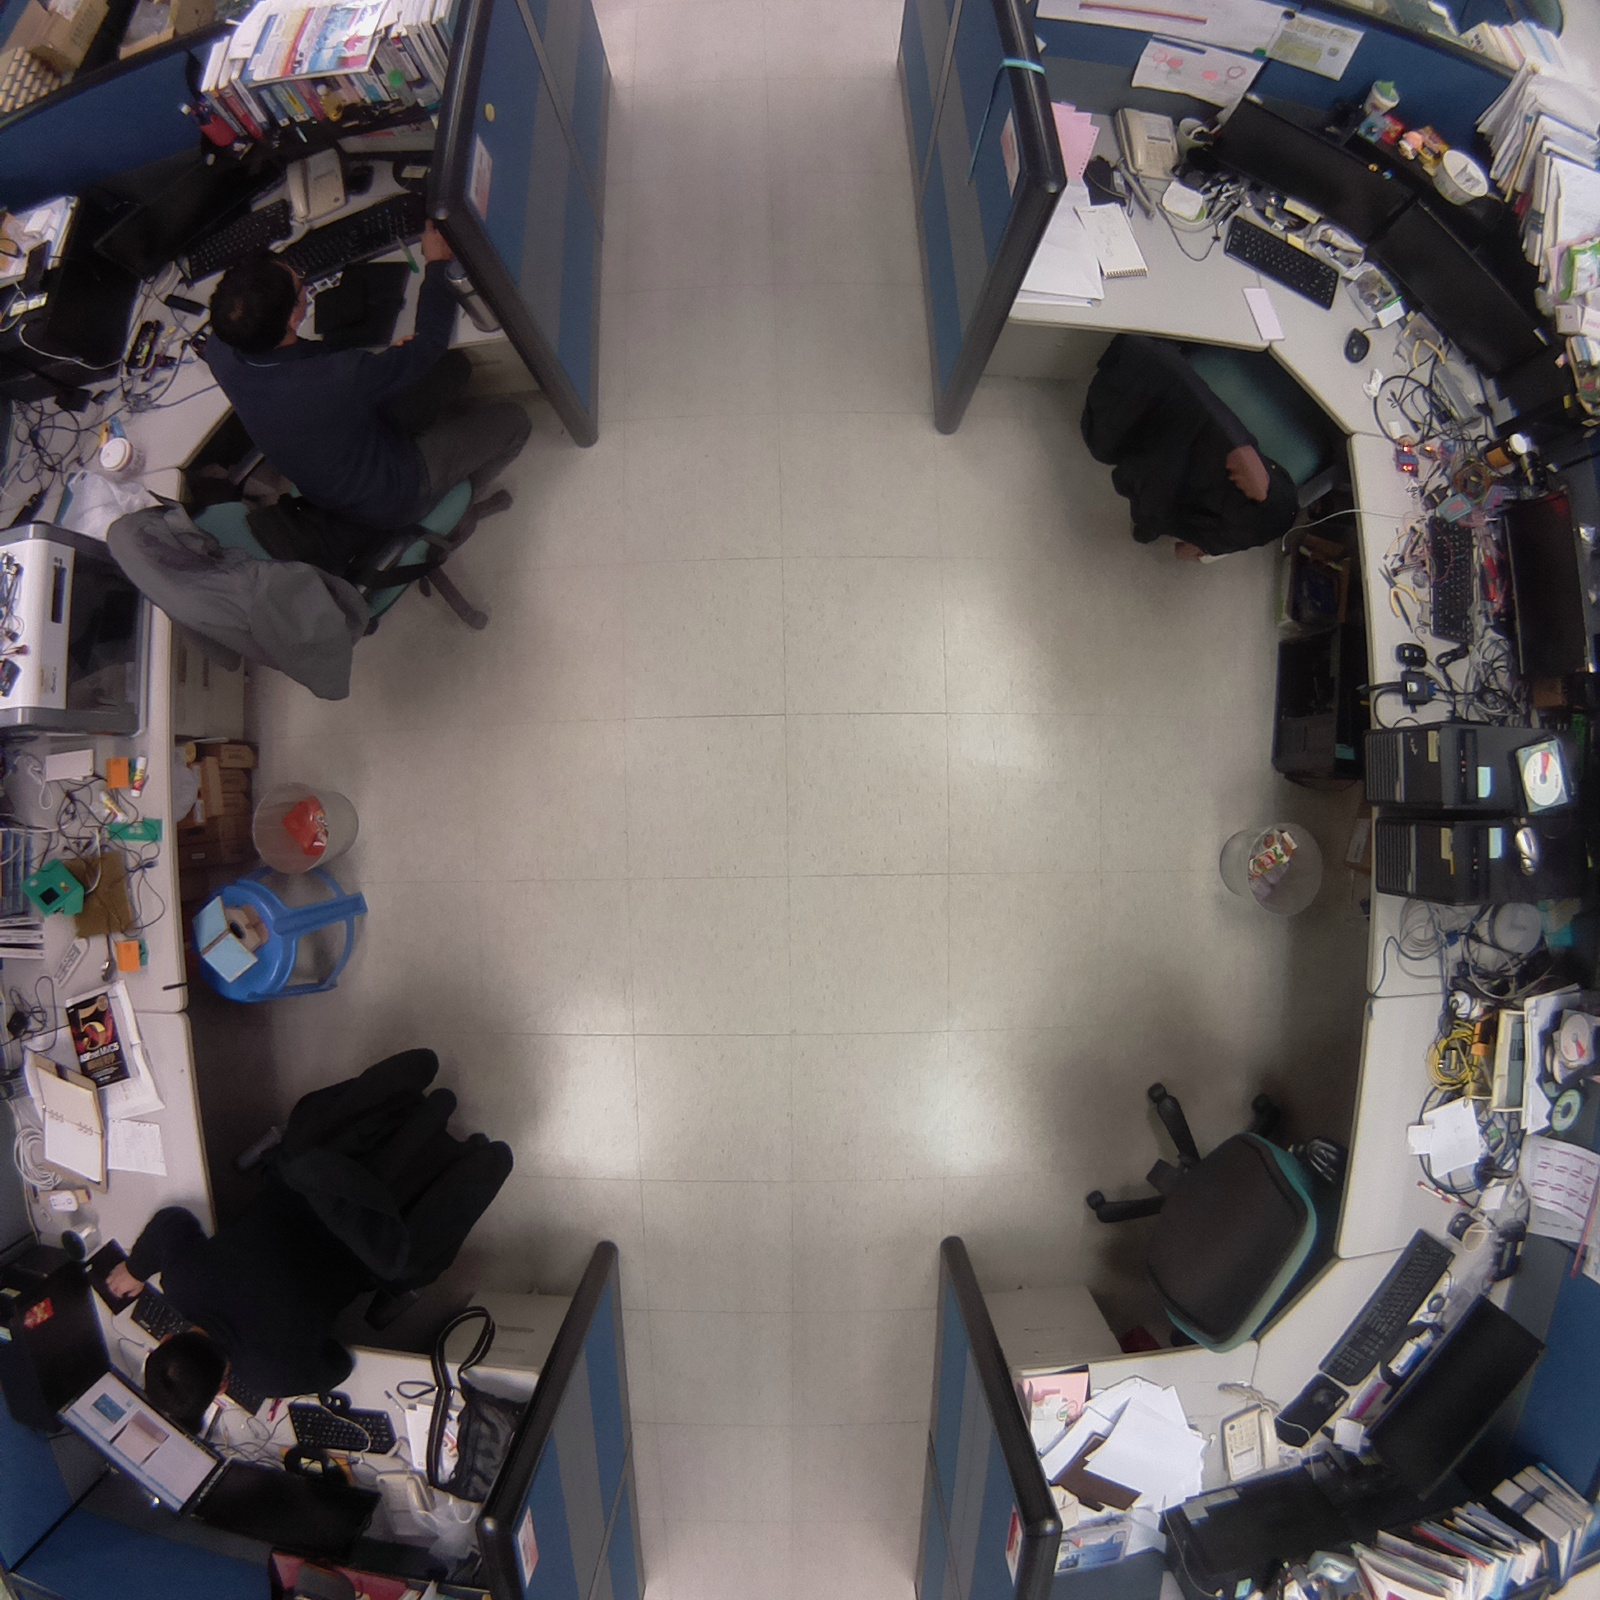chair: (1073, 1065, 1347, 1363), (1063, 311, 1353, 570)
head: (197, 244, 319, 355), (136, 1323, 232, 1434)
sitting: (88, 214, 558, 724), (91, 1027, 532, 1440)
